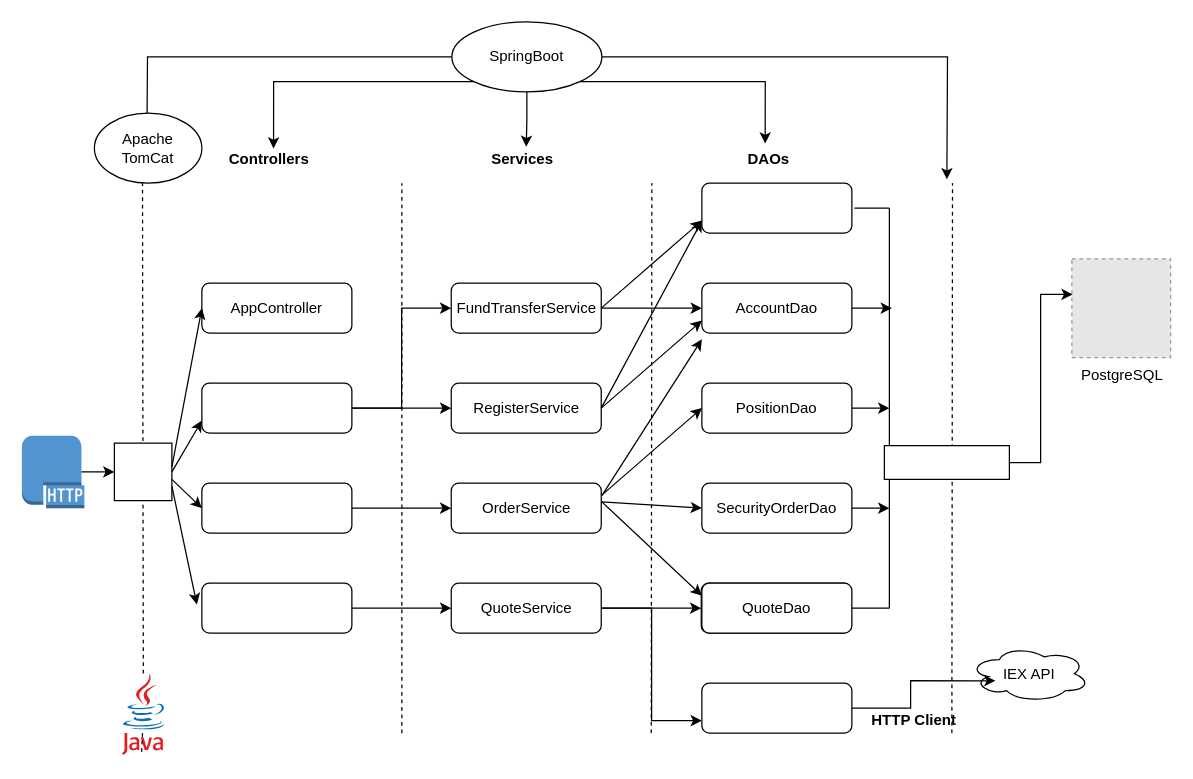
The diagram is 1193 pixels wide and 779 high, and some of its shapes have lost their labels. Grey dashed boxes stand in for pictures. Here are the shapes that lost their labels. From the top down, the box of each, then its label:
(701, 182, 852, 233): TraderDao
(201, 382, 352, 433): TraderController
(113, 442, 172, 501): Servlet
(883, 444, 1009, 479): Datasource (JDBC)
(201, 482, 352, 533): OrderController
(201, 582, 352, 633): QuoteController
(701, 682, 852, 733): MarketDataDao
